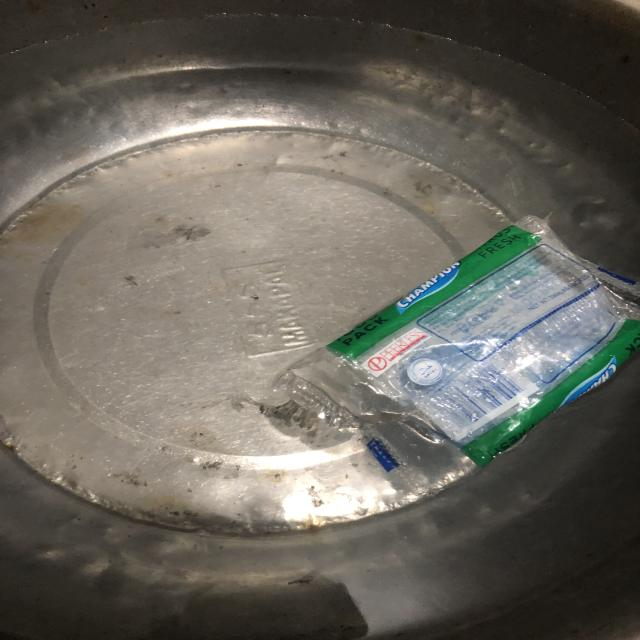Plastic Wrapper: (257, 220, 640, 487)
